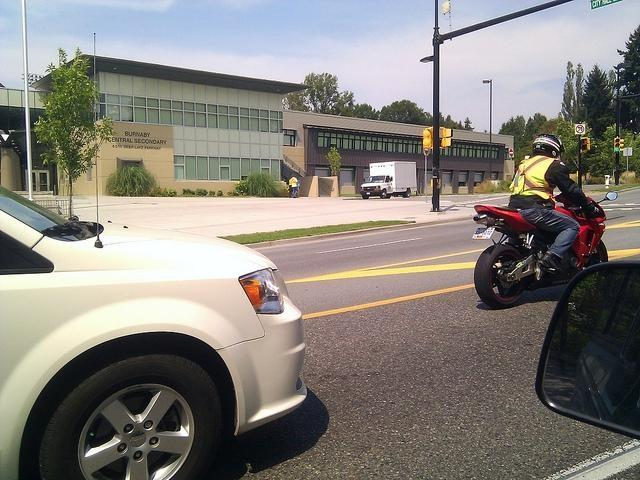car: (1, 185, 315, 475), (568, 266, 640, 432)
motorcycle: (474, 209, 562, 315)
truck: (358, 160, 416, 201)
